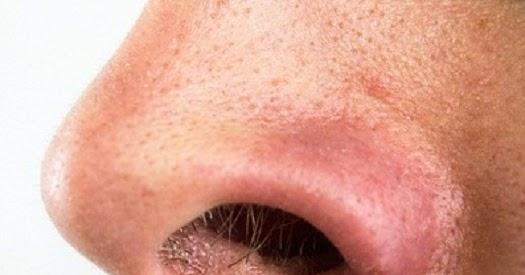Acne: (37, 0, 525, 275)
